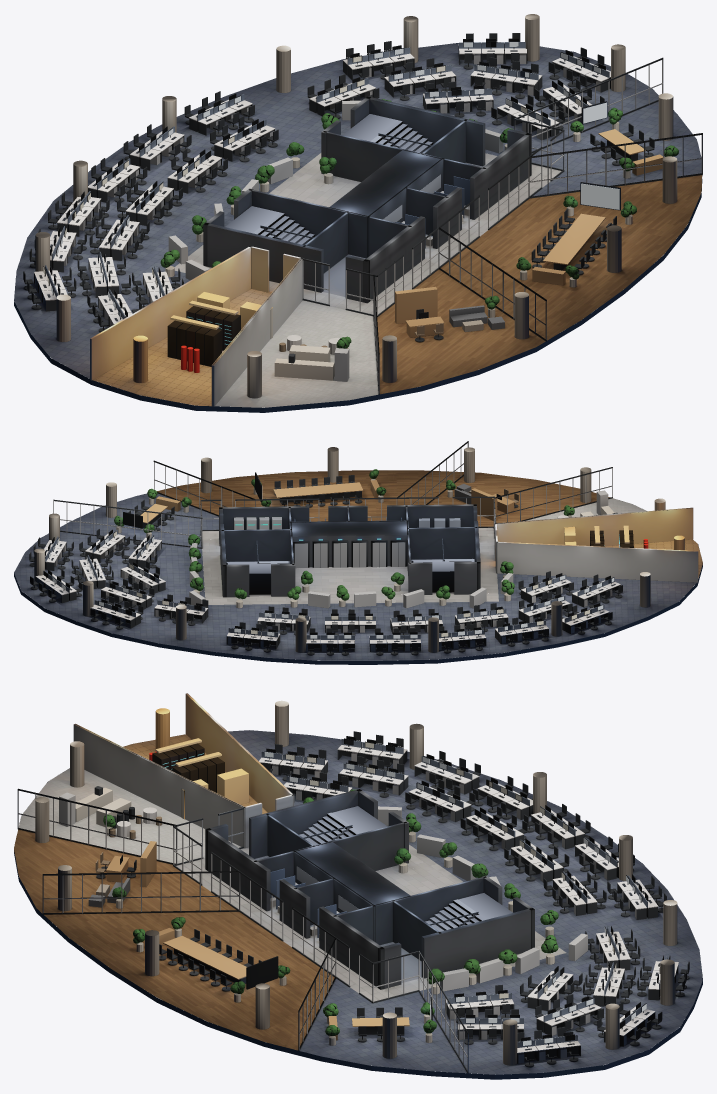
File: floor_S.glb
3 views of the same model, one above another, from view 1: azimuth 30°, elevation 25°; view 2: azimuth 150°, elevation 25°; view 3: azimuth 270°, elevation 25° (orthographic). The views are drawn at different scales.
Visible parts, largest first — view 1: floor, floor_v; view 2: floor, floor_v; view 3: floor, floor_v.
Boxes of the visible parts, box(x1,y1,x2,y2) form: floor: box(14, 43, 702, 407); floor_v: box(14, 14, 702, 412); floor: box(14, 470, 702, 660); floor_v: box(14, 441, 702, 664); floor: box(14, 693, 702, 1074); floor_v: box(14, 700, 702, 1079).
Size of the model in its own units: 51.44 by 3.15 by 43.45.
2 materials, 1 textured.
